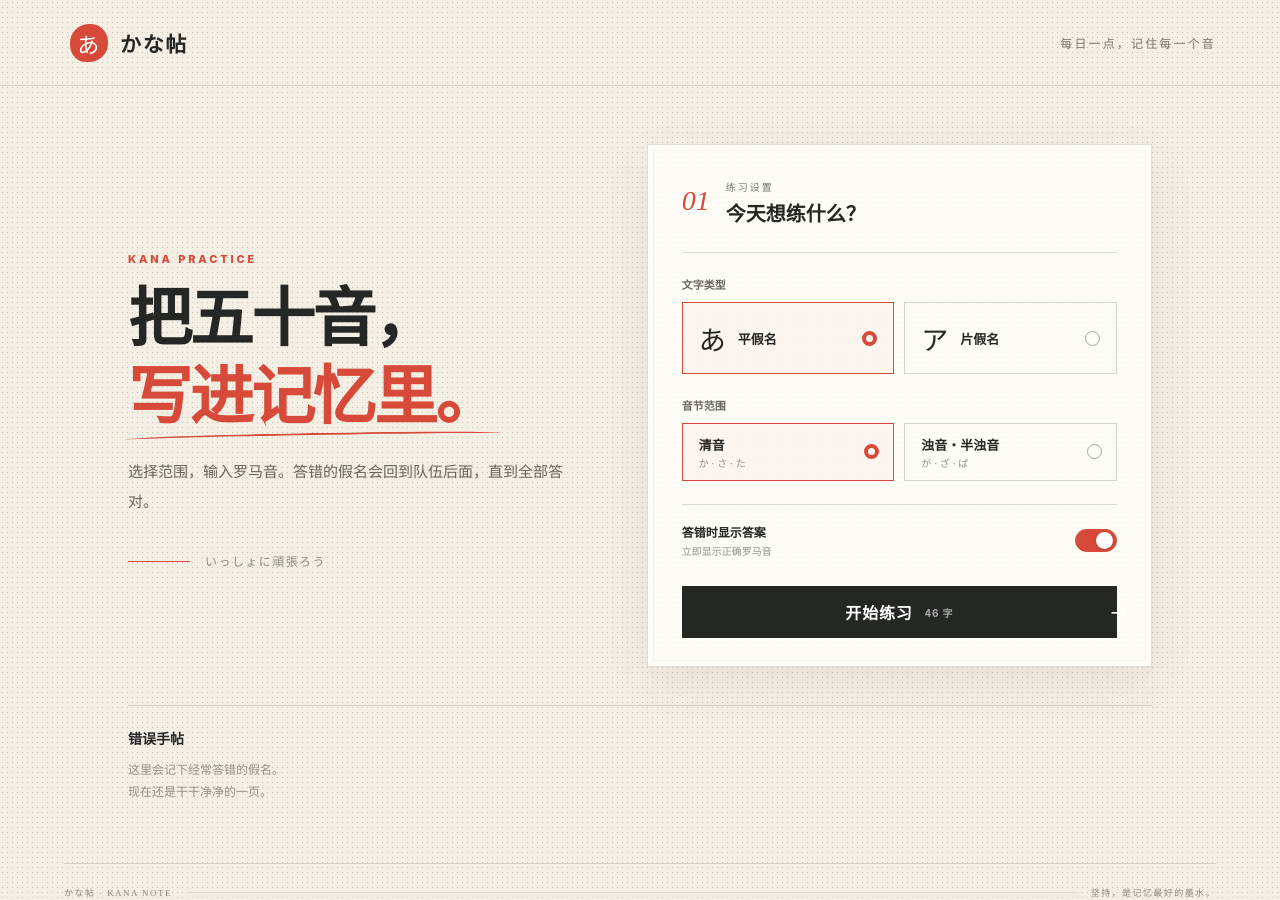
五十音练习 › 提交错误答案后立即清空输入框并记录错误
This screenshot has width=1280, height=900.
Click the button "开始练习 46 字 →". click: (899, 612)
box: [682, 586, 1117, 638]
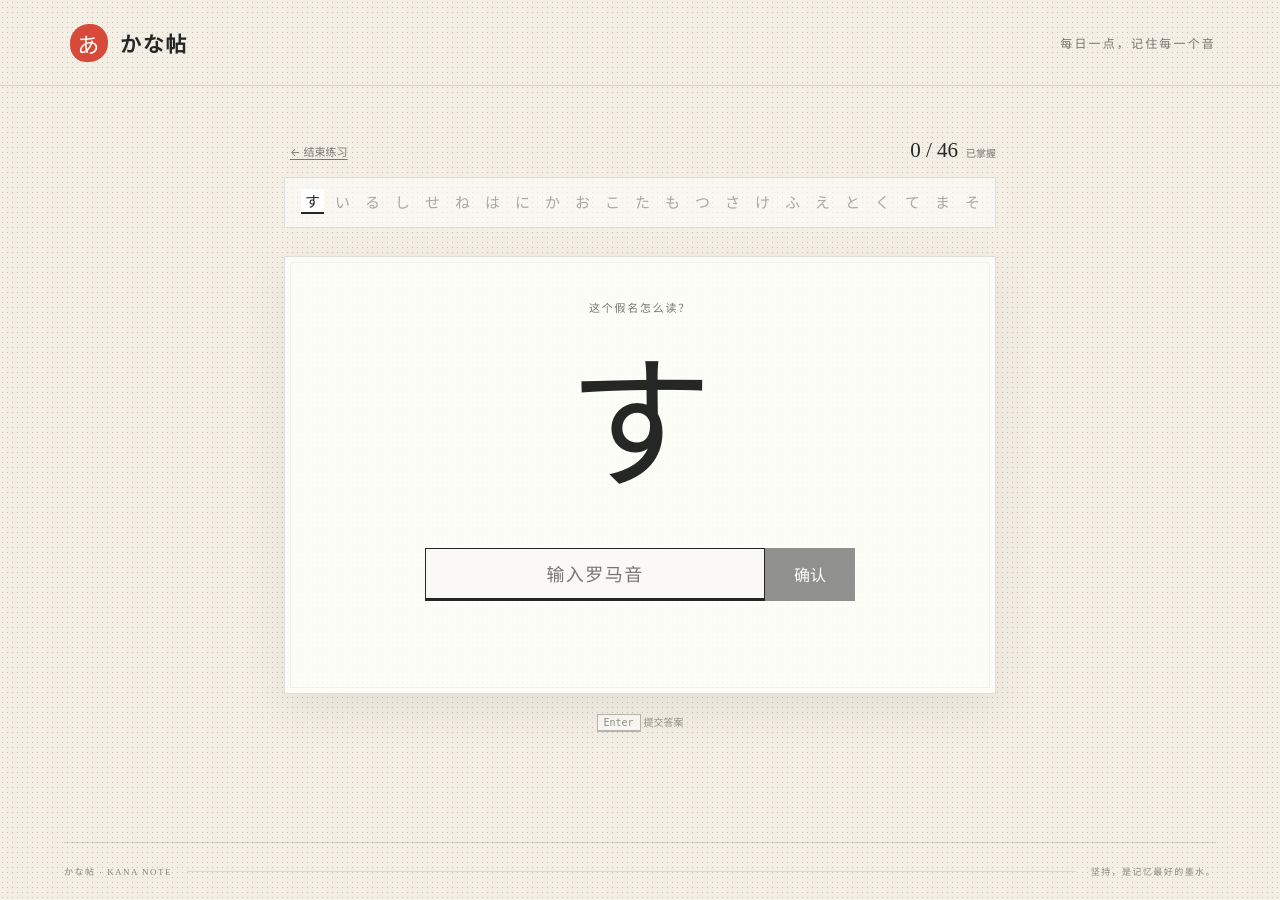
Check: the element showing "这个假名怎么读？ す 确认" is shown, box [284, 256, 996, 694]
Type "definitely-wrong" into the field with placeholder "输入罗马音". click: (595, 574)
box: [425, 548, 765, 601]
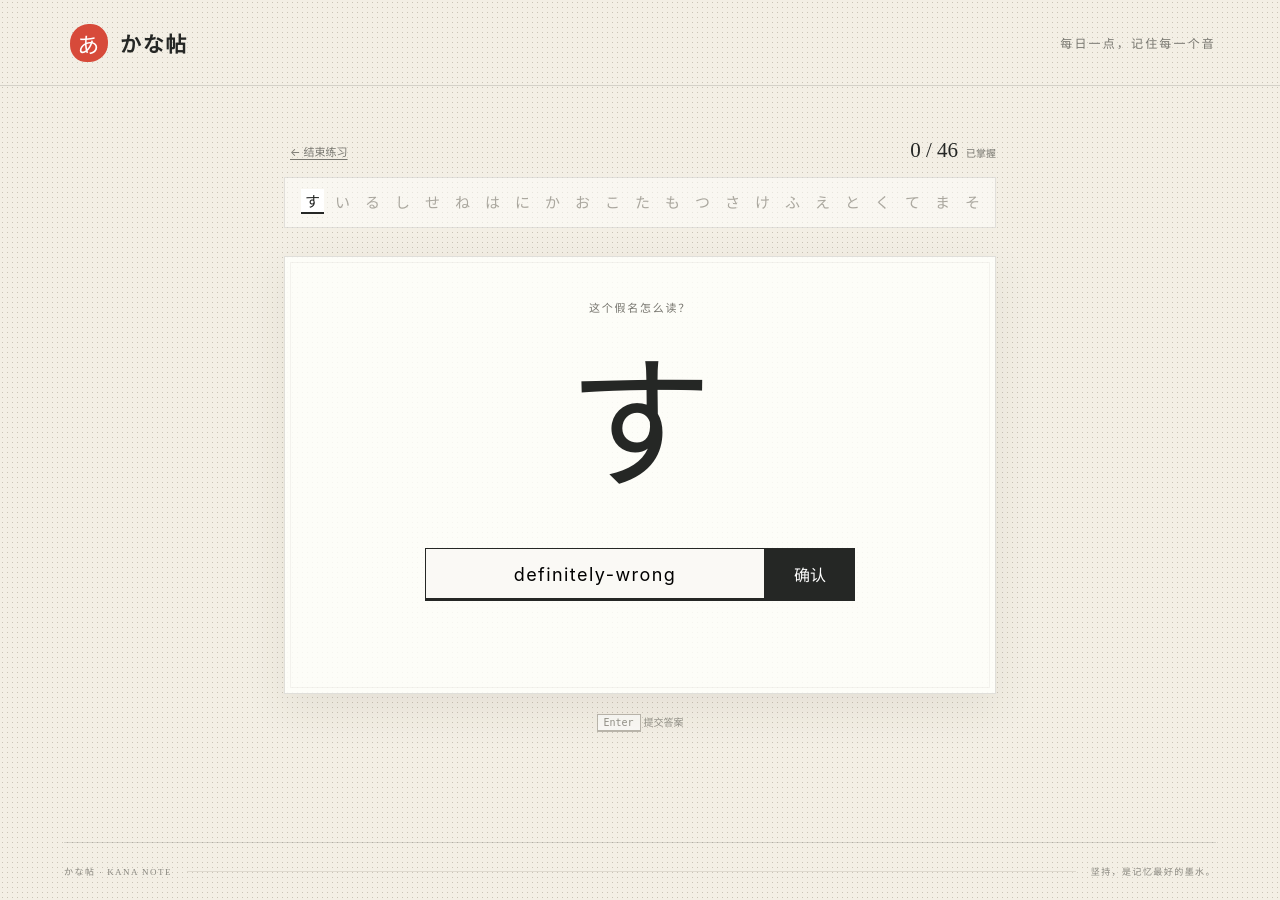
Submit the form, box [425, 548, 855, 601]
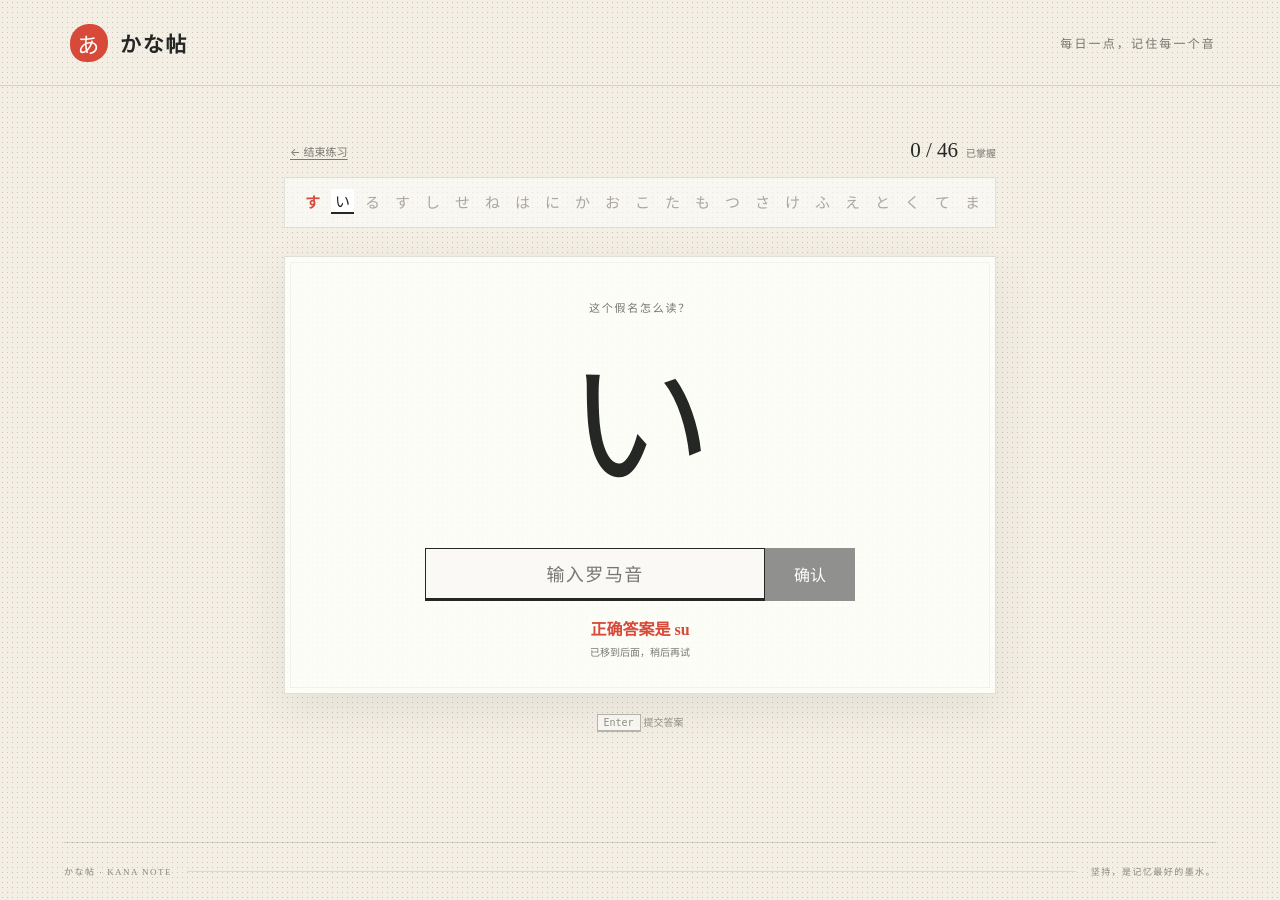
Check: the field with placeholder "输入罗马音" is empty, box [425, 548, 765, 601]
Check: the element with class "feedback" shows "正确答案是", box [590, 621, 690, 638]
